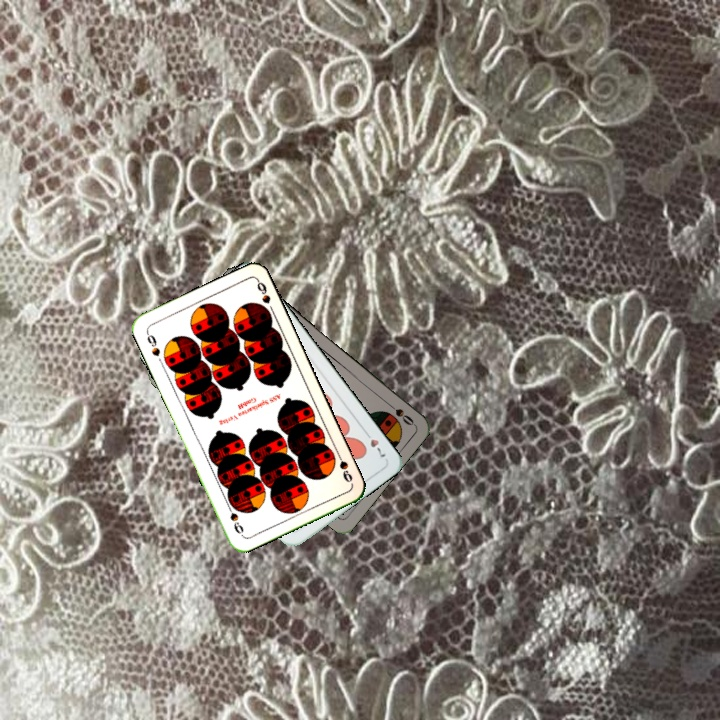H7: (360, 426, 388, 460)
S9: (327, 448, 355, 486), (142, 327, 163, 359)
SO: (382, 397, 417, 428)
